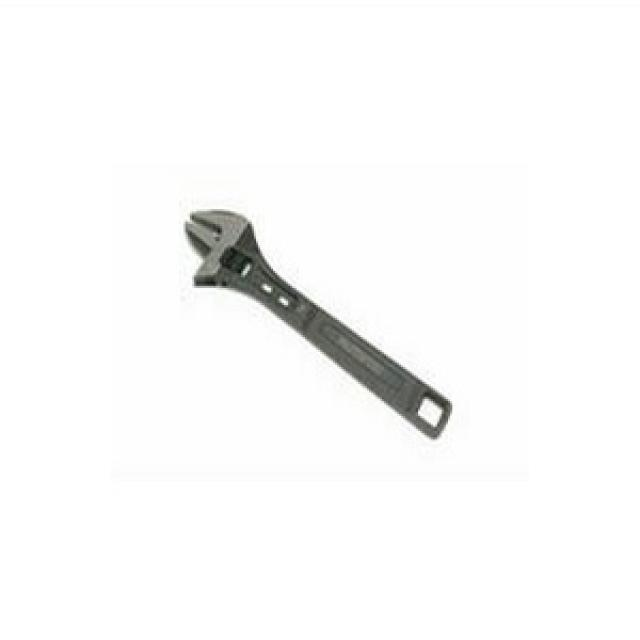wrench: (167, 192, 478, 462)
